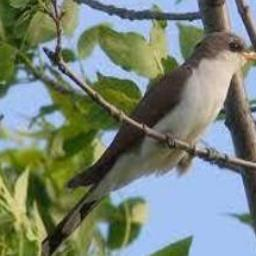Cuckoo: (25, 32, 256, 256)
